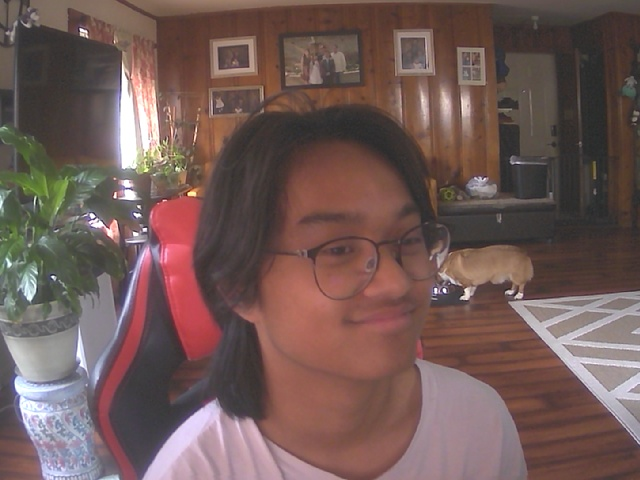happy: (214, 118, 455, 382)
